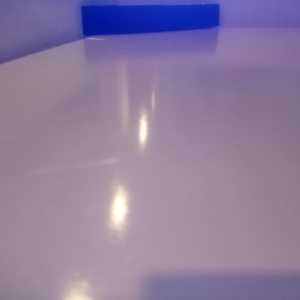zone: (81, 3, 221, 36)
